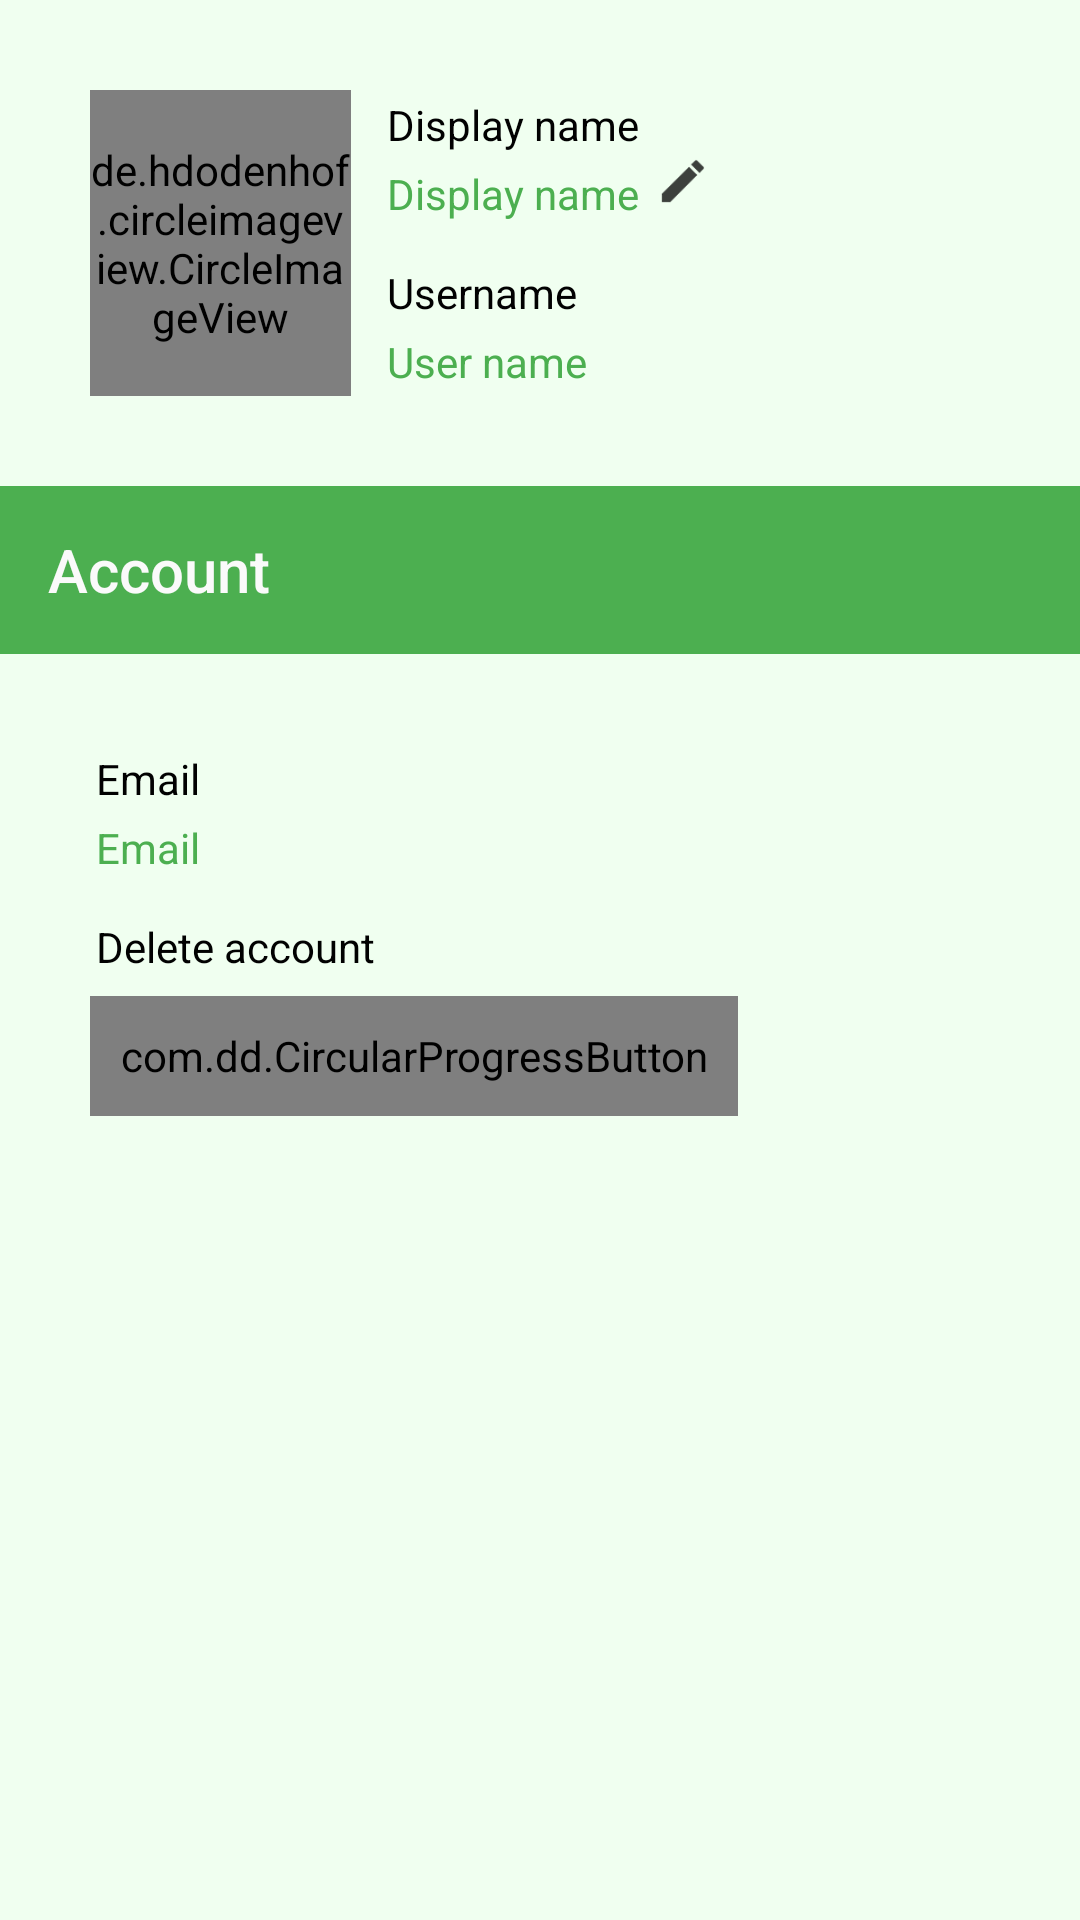

Locate icon controls on the screen. Image size 1080×1920, boxes as (x1, y1, x2, y2).
pen: (661, 160, 704, 203)
